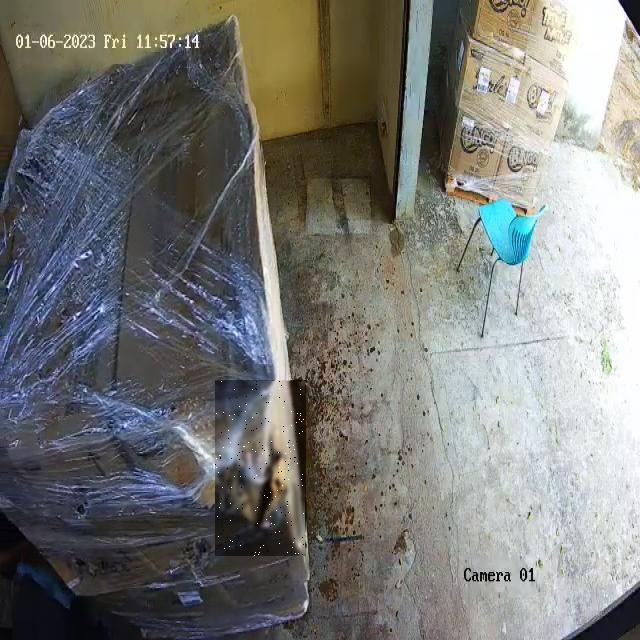squeeze: (216, 382, 304, 556)
